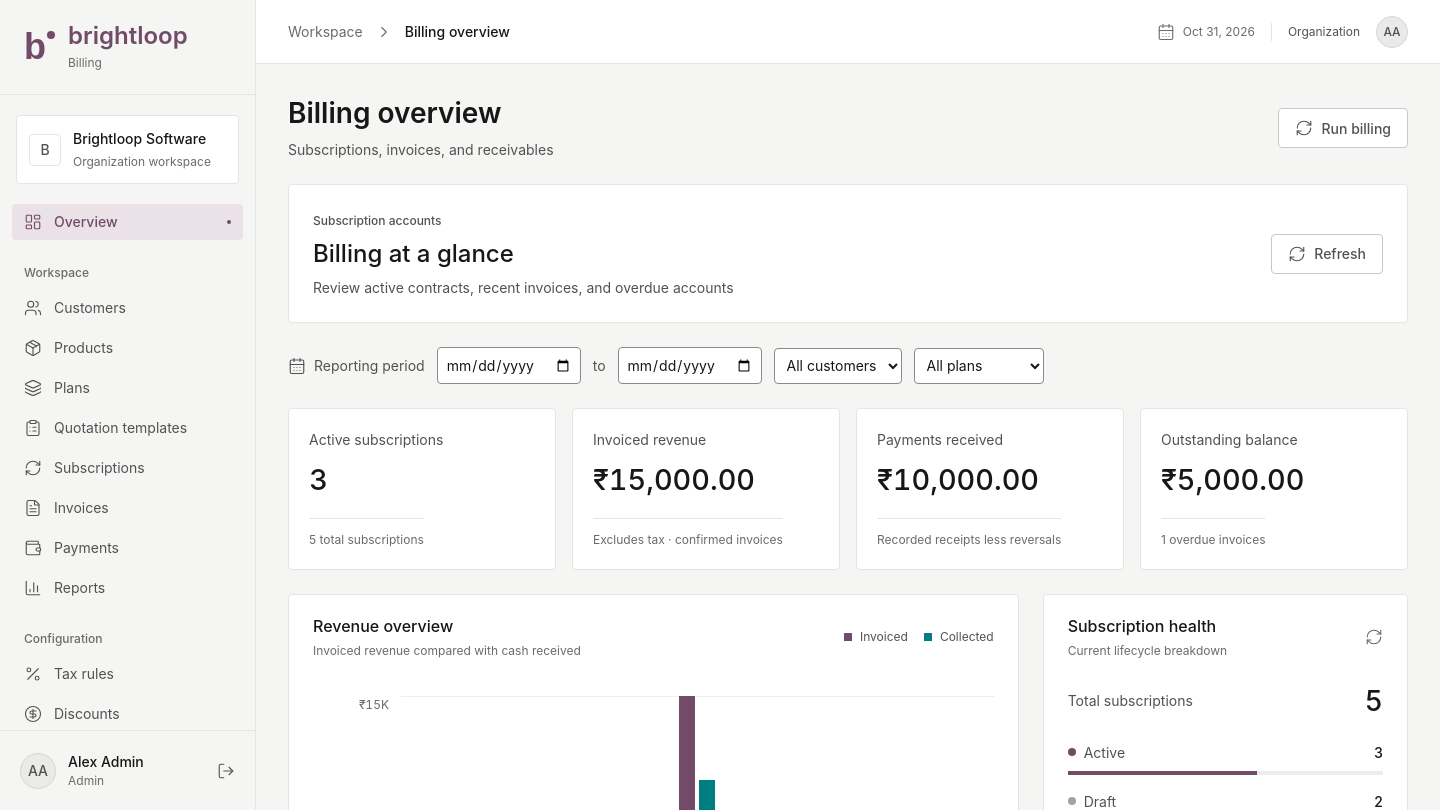
workspace permissions and real mutations › uses the subscription plan snapshot to hide forbidden lifecycle actions
The image size is (1440, 810).
Click the button "Subscriptions": (128, 468) [12,450,243,486]
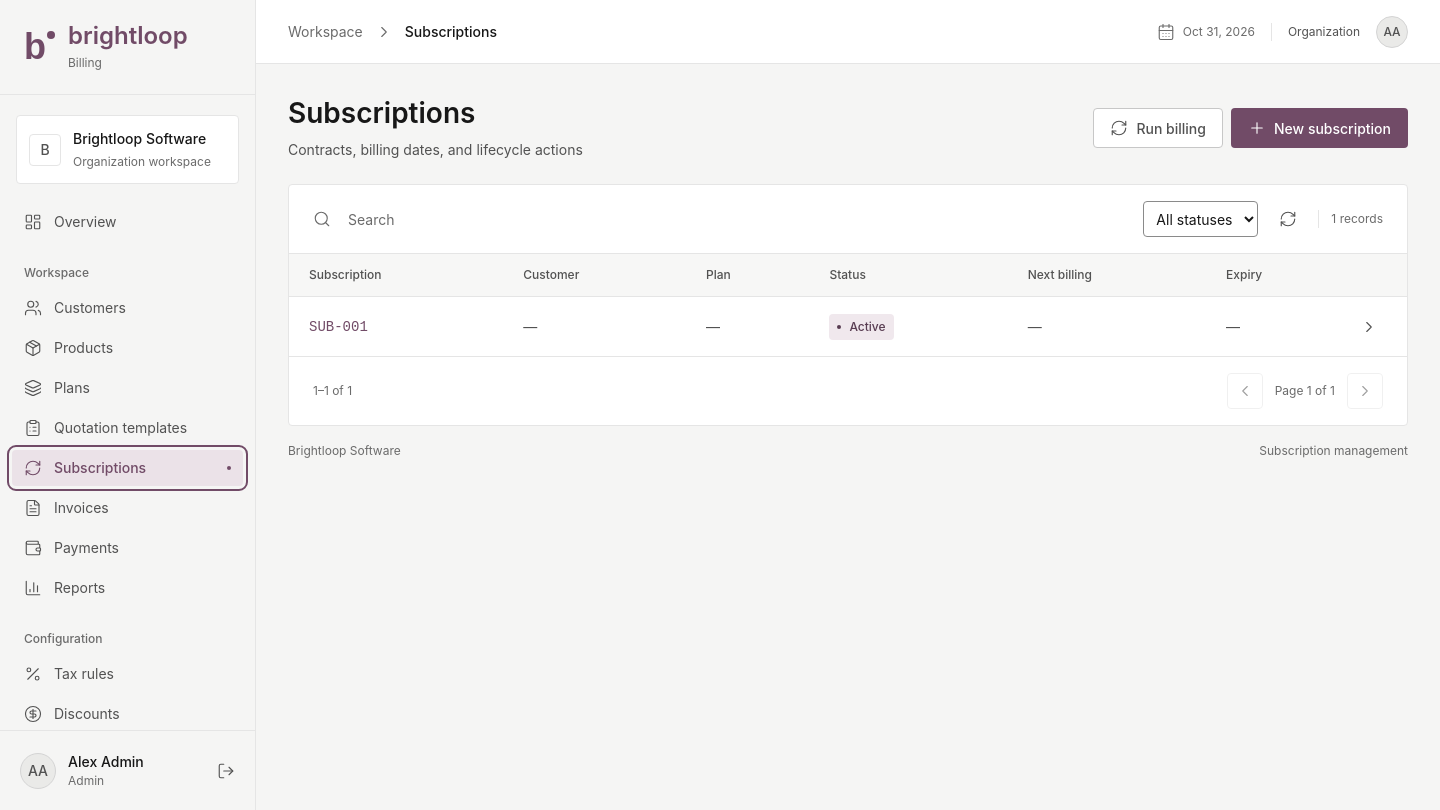
Click the button "SUB-001": (338, 328) [309,317,368,338]
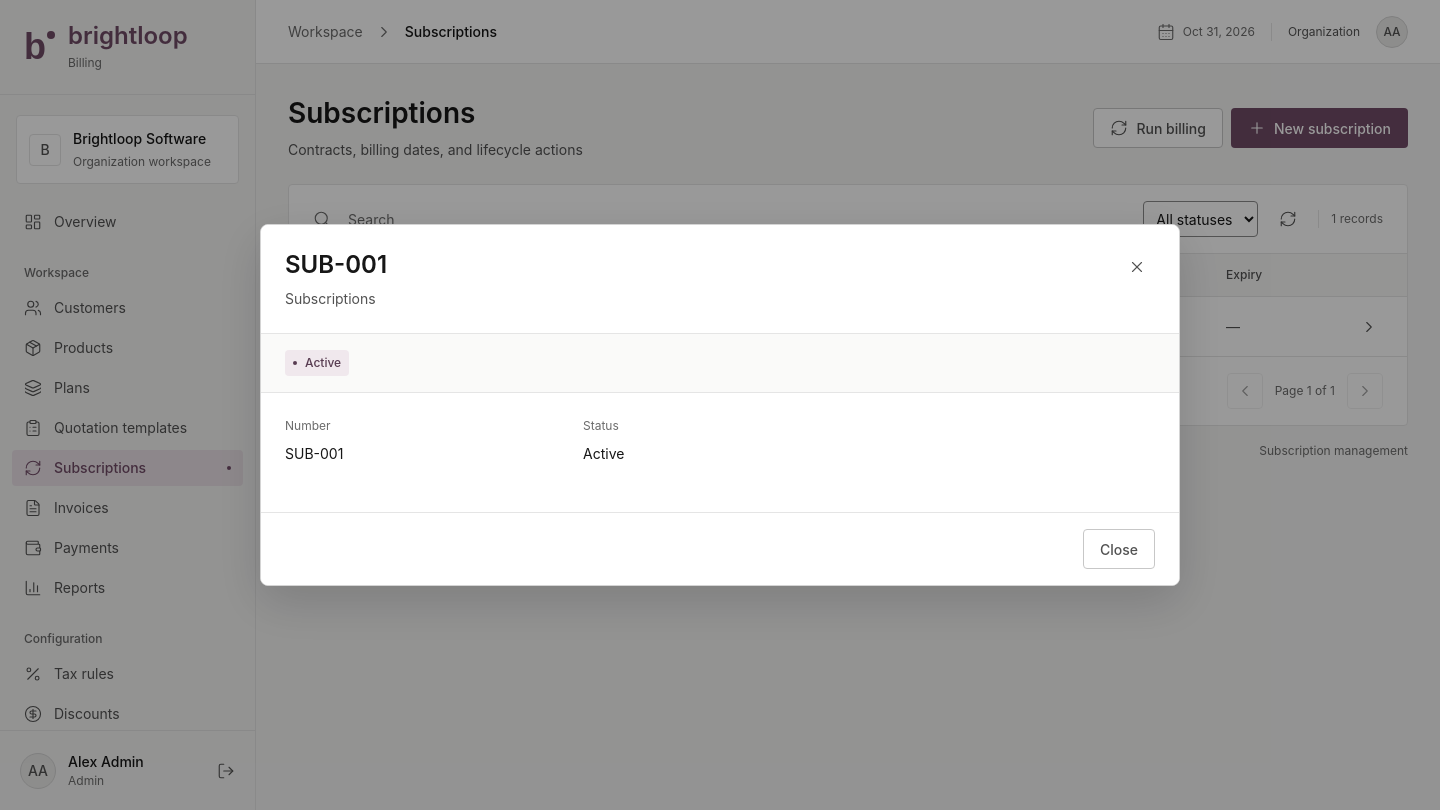
Now the number of buttons "Close" is 1, box [1083,529,1155,569]
